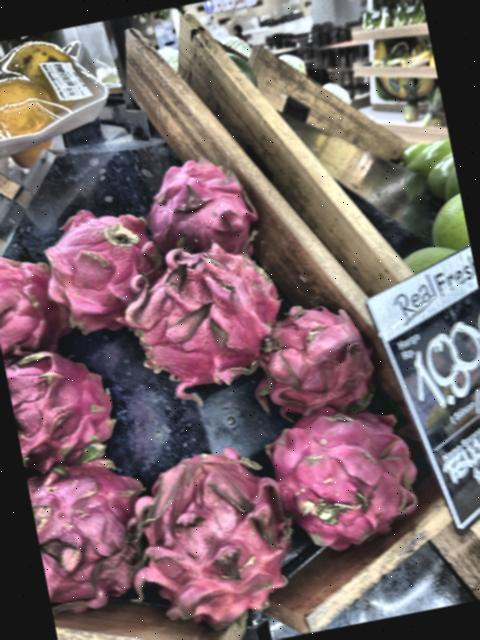buah-naga-matang: (123, 440, 309, 636), (257, 384, 426, 554), (110, 236, 290, 395), (26, 451, 174, 626), (31, 202, 164, 334), (250, 291, 378, 424), (4, 340, 127, 474), (130, 145, 260, 268), (0, 232, 74, 353)
